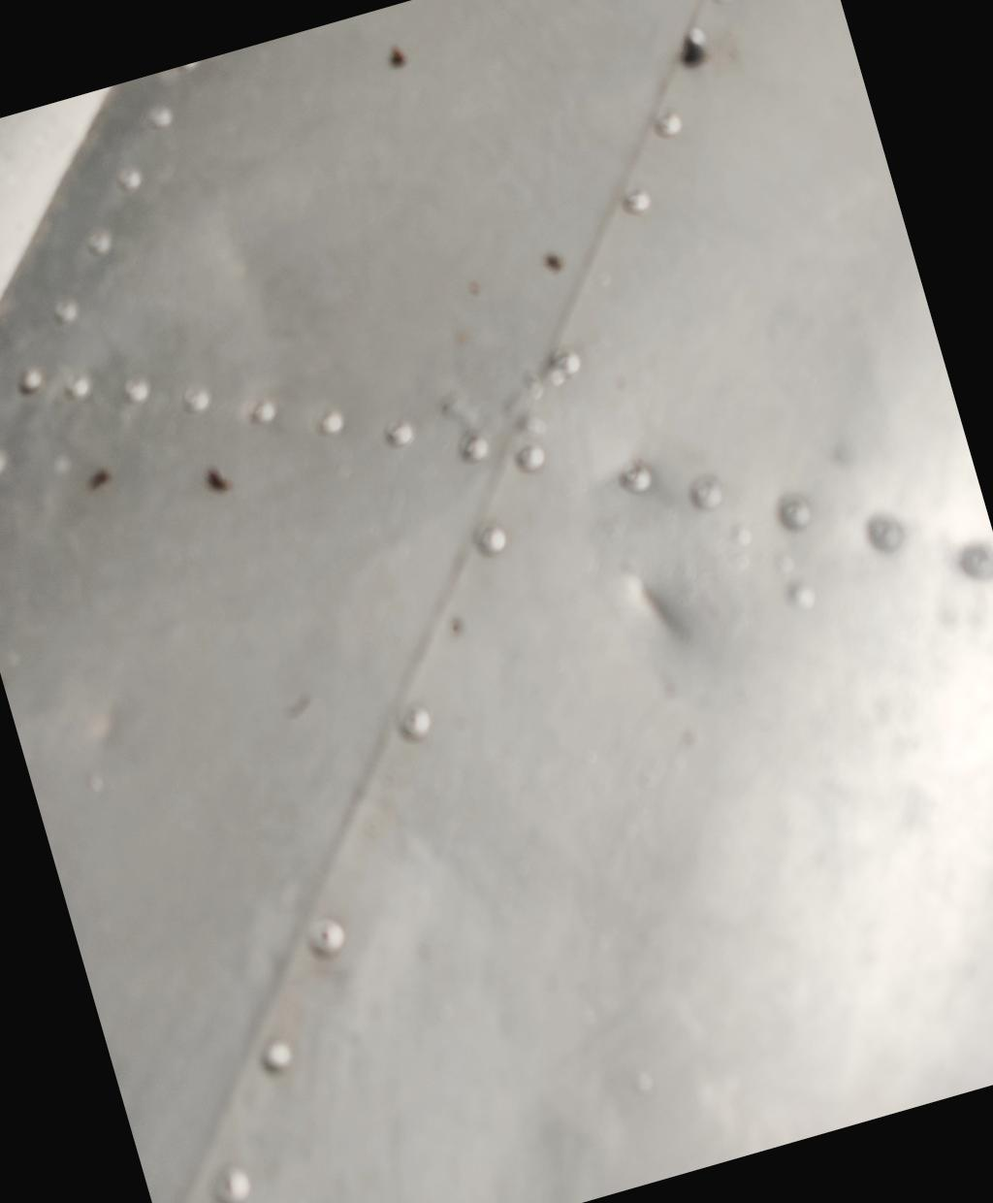dent: (555, 478, 785, 743)
